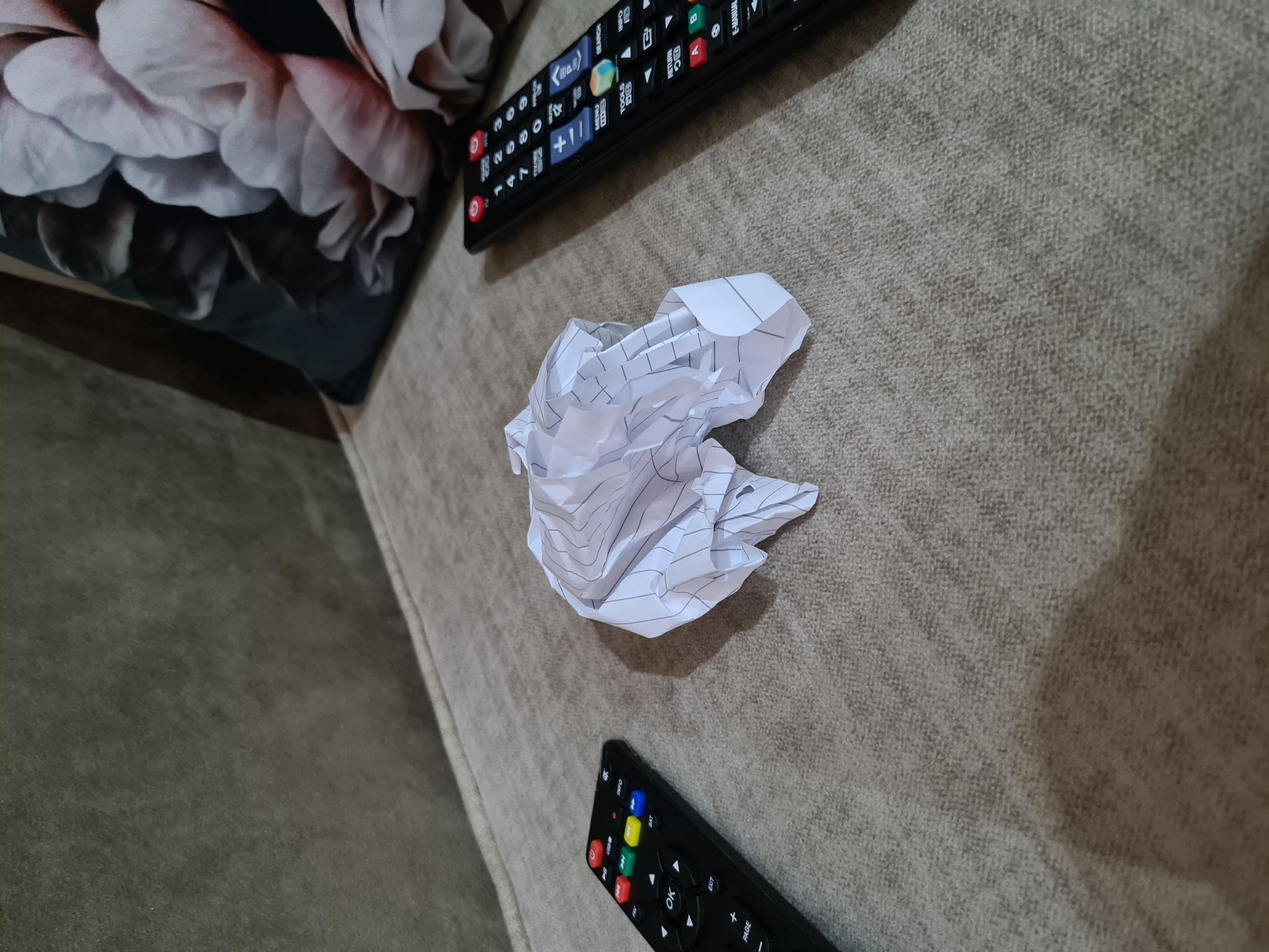Kertas: (302, 497, 704, 827)
